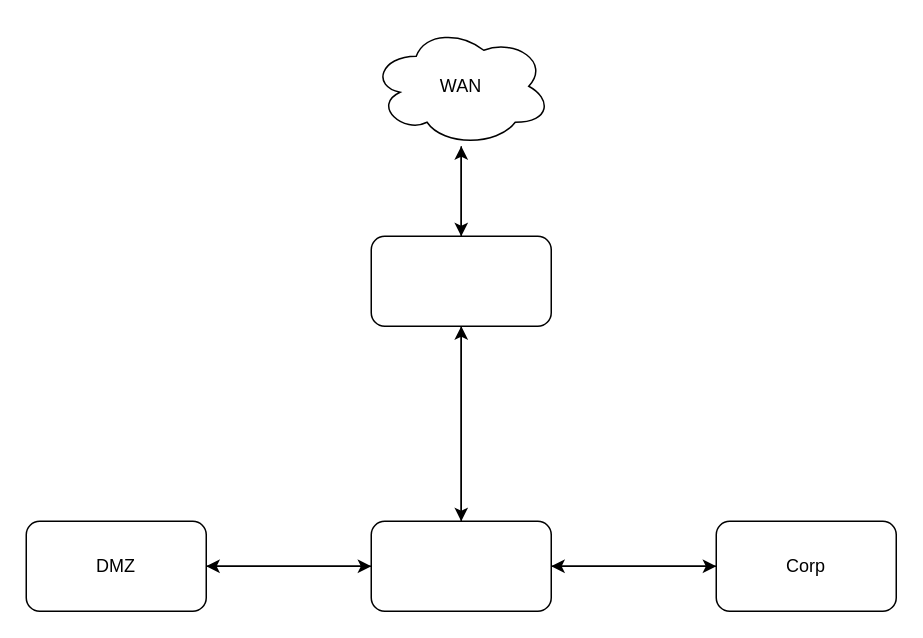
Some shapes in this 923 by 638 pixel diagram are drawn without their labels. The box of each missing label's shape, as (x1, y1, x2, y2) in pixels:
Core: (370, 520, 551, 611)
NAT: (370, 235, 551, 326)
